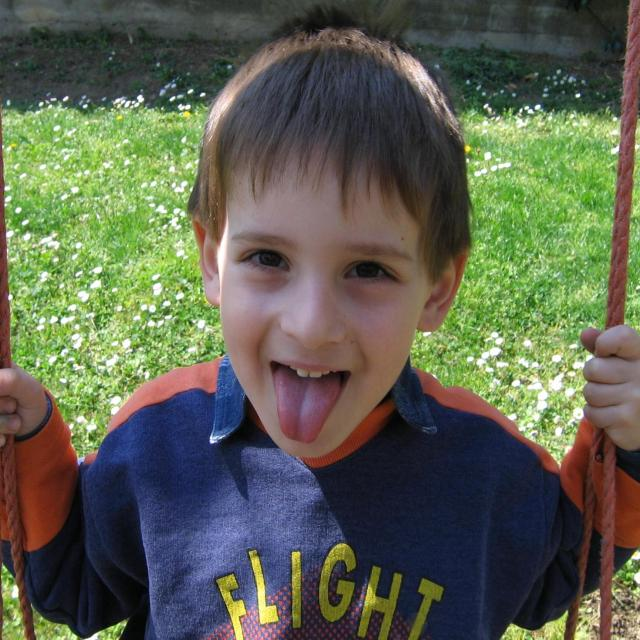no-glass: (241, 248, 399, 282)
